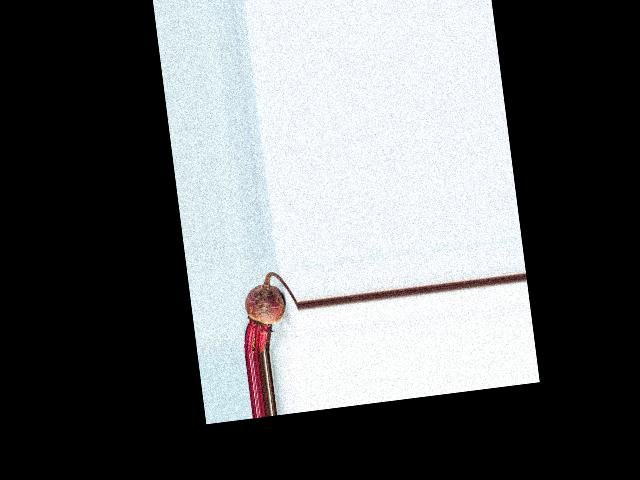beet: (234, 269, 302, 356)
